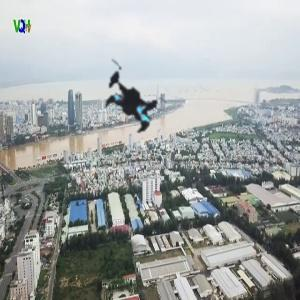drone: (69, 39, 197, 167)
